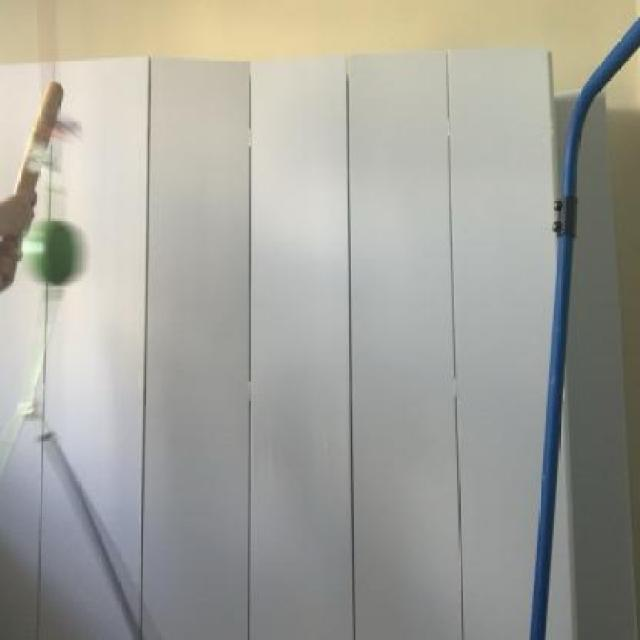baseball: (22, 212, 86, 291)
